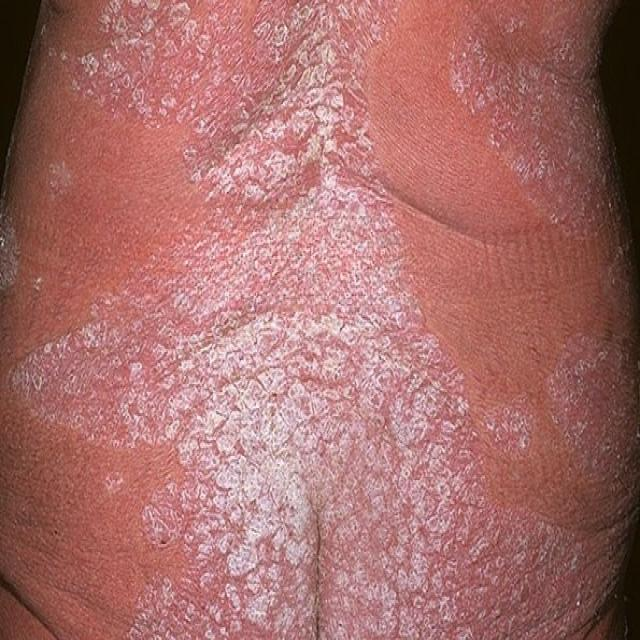Psoriasis Eritrodermica: (0, 0, 639, 638)
